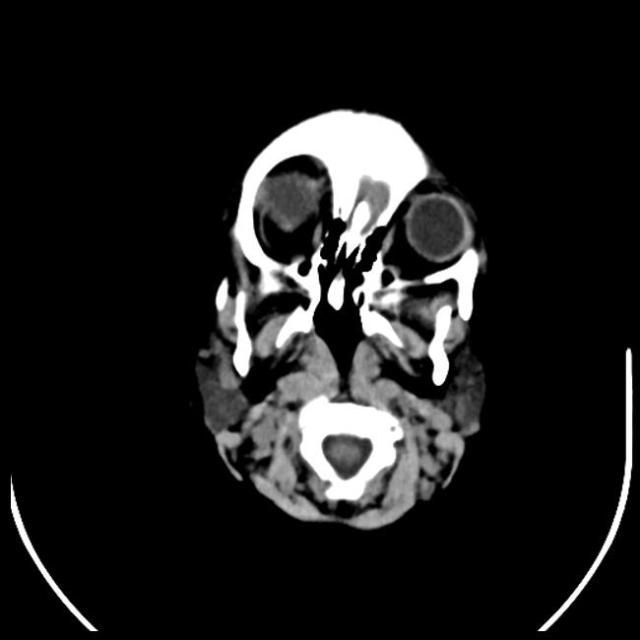lesion: (195, 313, 305, 491)
